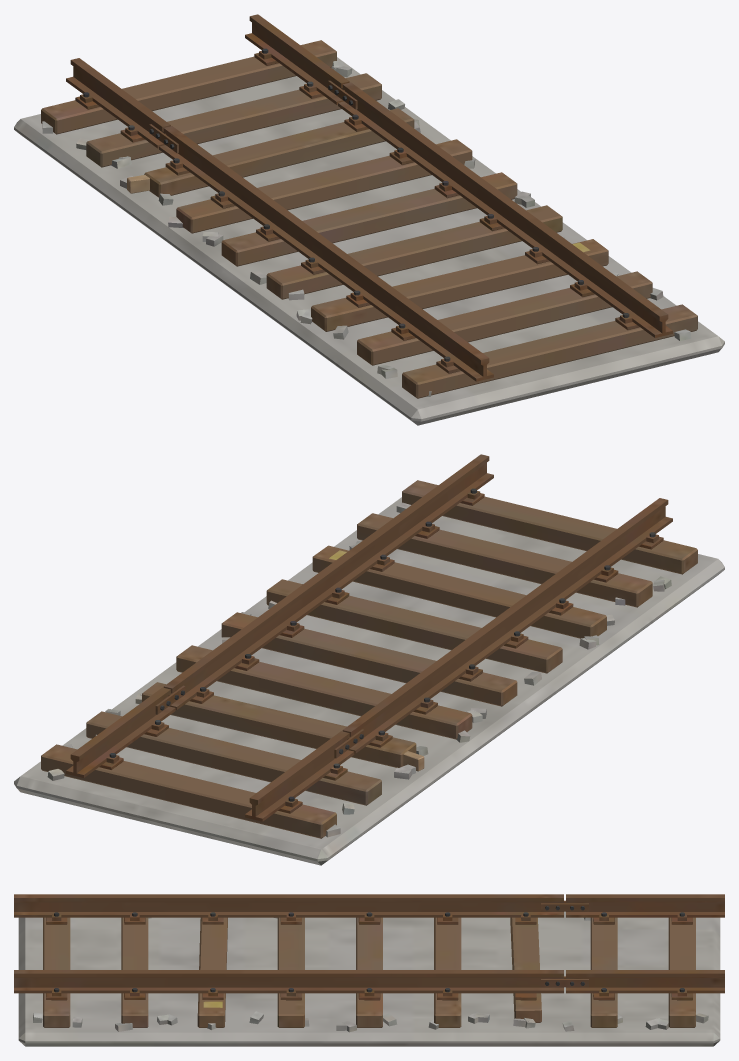
File: RE03_metro_track_piece.glb
3 renders of one model, top to bottom at view 1: azimuth 30°, elevation 25°; view 2: azimuth 150°, elevation 25°; view 3: azimuth 270°, elevation 25°, orthographic. The views are drawn at different scales.
Visible parts, largest first — view 1: Ballast bed; view 2: Ballast bed; view 3: Ballast bed.
Part boxes in pixels (box(x1,y1,x2,y2)): Ballast bed: box(14, 14, 724, 425); Ballast bed: box(14, 454, 724, 865); Ballast bed: box(14, 894, 724, 1046).
Bounding box in the file's own units: 2.65 × 0.455 × 6.
7 materials, 7 textured.
